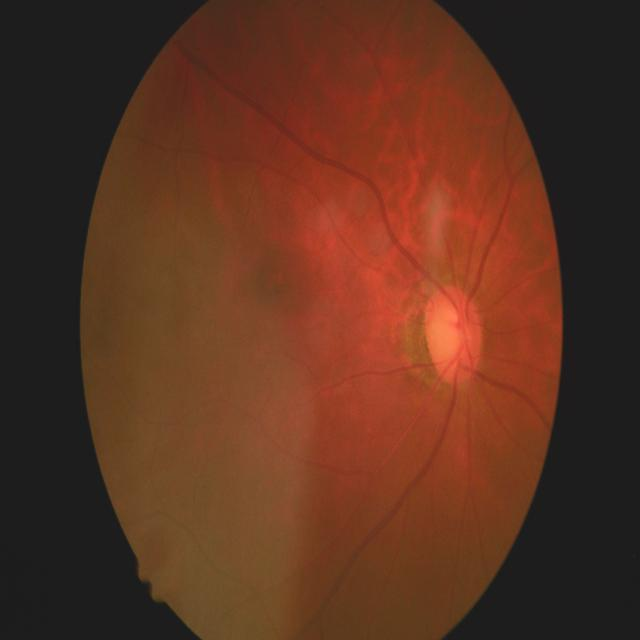cup: (434, 300, 469, 368)
disk: (423, 288, 483, 386)
